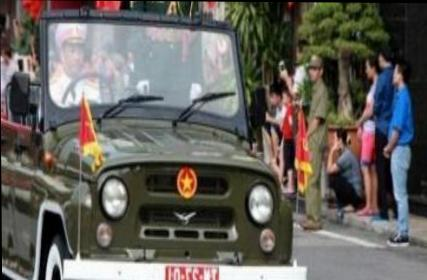License_Plate: (163, 266, 222, 280)
